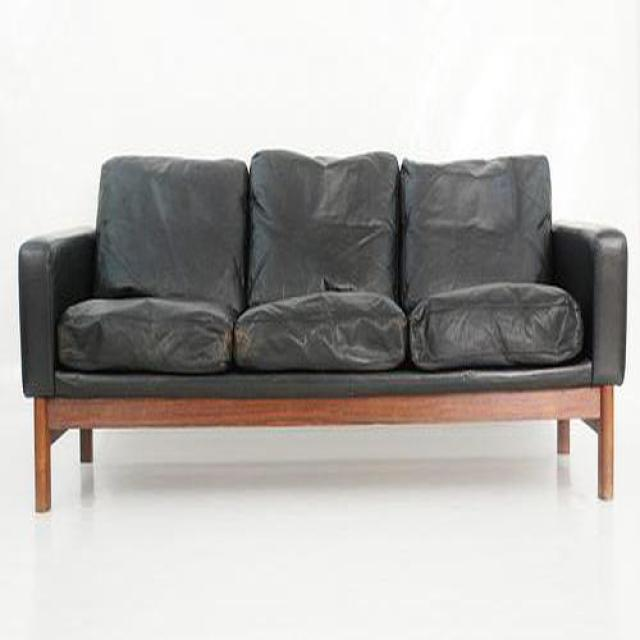sofa: (18, 151, 628, 516)
